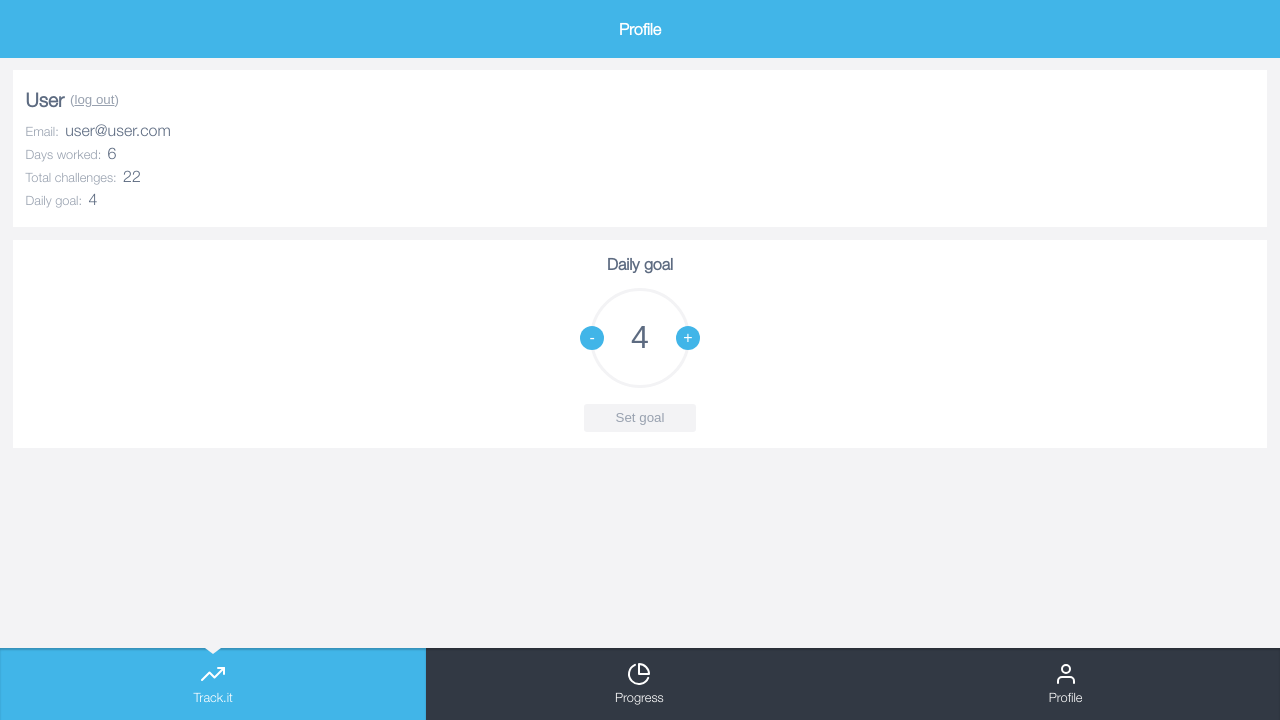
Scenario: Progress Page › decreases daily goal by pressing - and disables it when daily goal is 1
Click the button "-": (592, 338) [580,326,604,350]
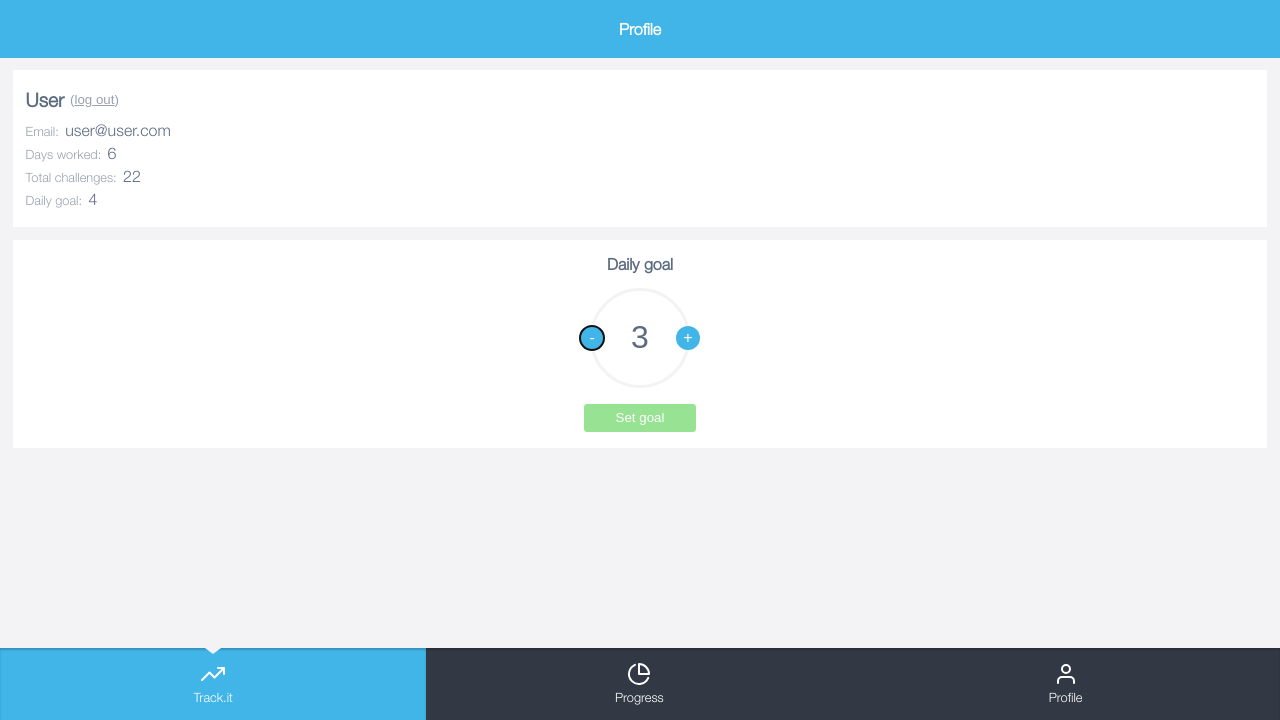
Click the button "-": (592, 338) [580,326,604,350]
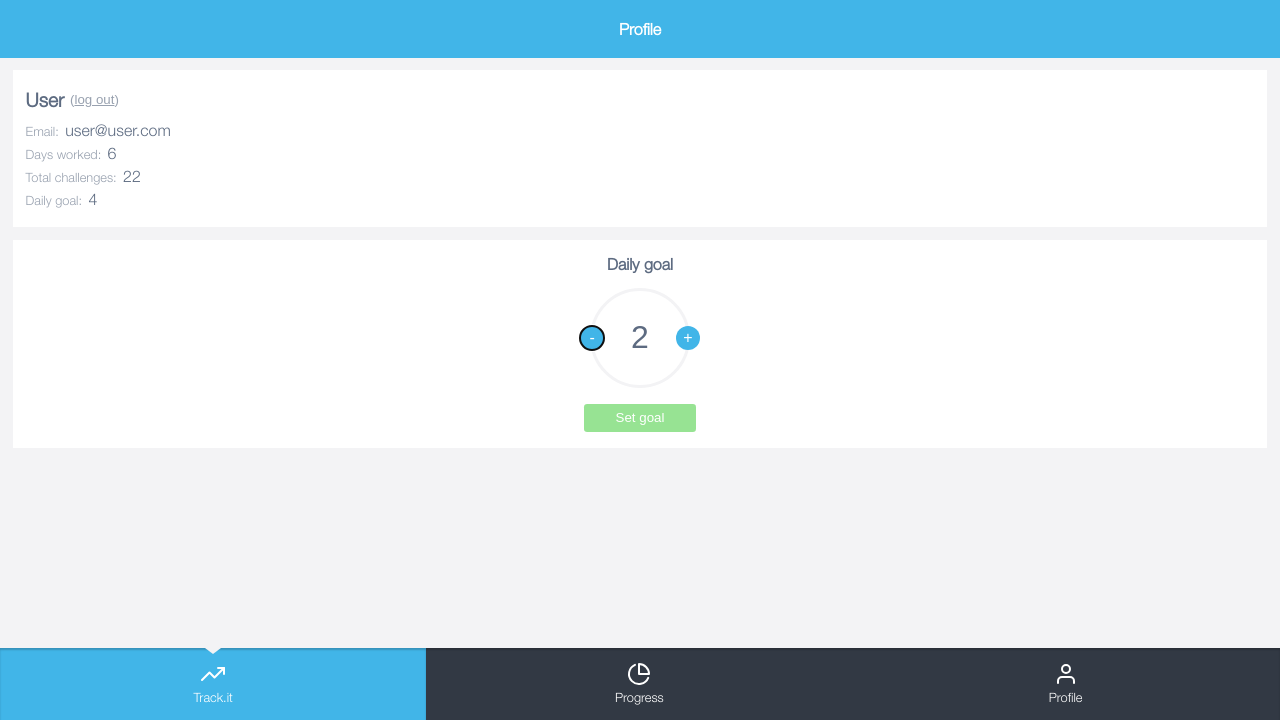
Click the button "-": (592, 338) [580,326,604,350]
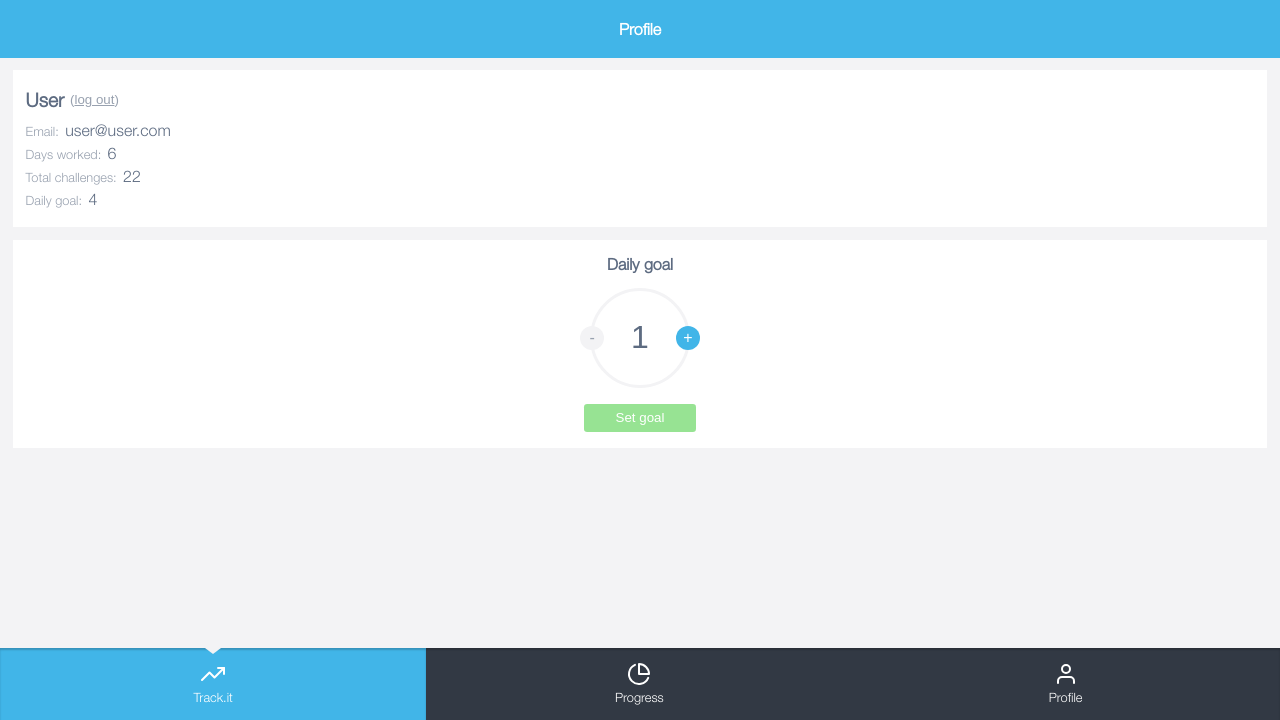
Result: the button "Set goal" is enabled at [584,404,696,432]
Result: the number field showing "1" is shown at [614,313,666,363]
Result: the button "-" is disabled at [580,326,604,350]
